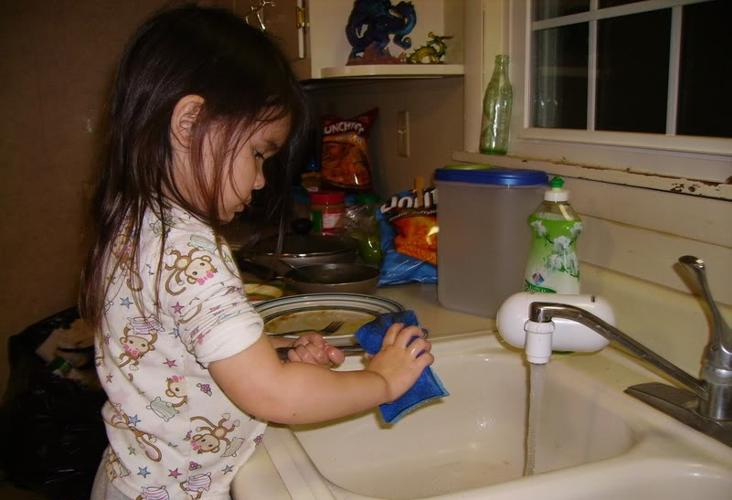person: (80, 8, 434, 500)
